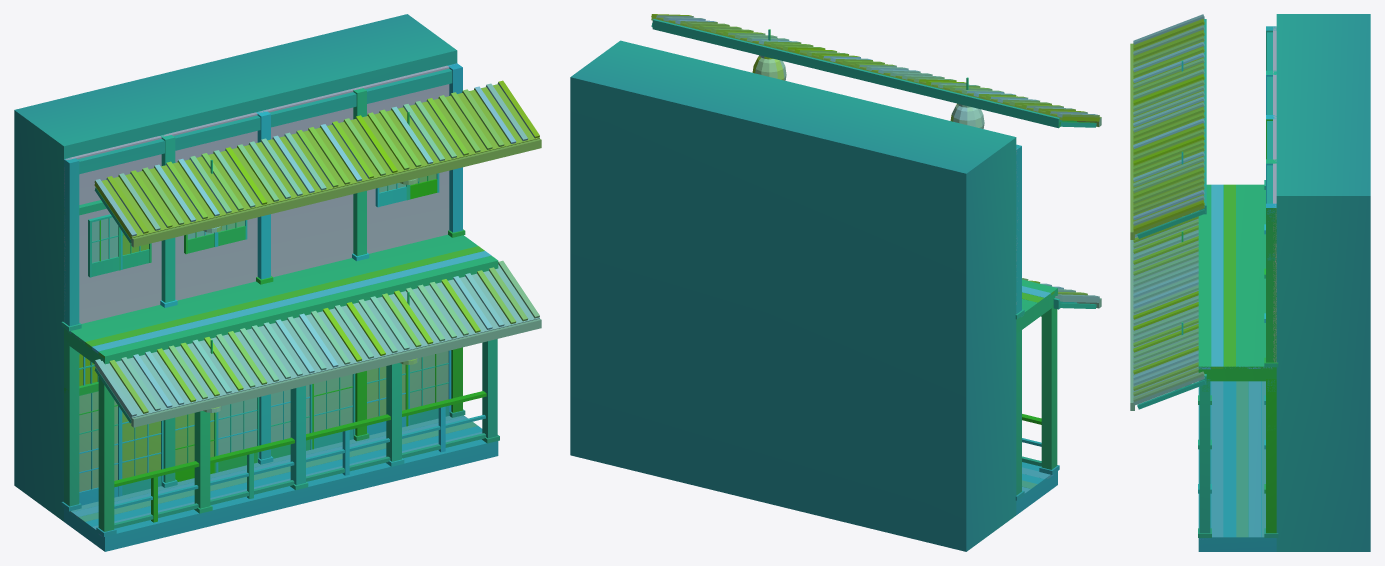
Rendered from B_facade_0.glb.
3 renders of one model, left to right at view 1: azimuth 30°, elevation 25°; view 2: azimuth 150°, elevation 25°; view 3: azimuth 270°, elevation 25°, orthographic. The views are drawn at different scales.
Visible parts, largest first — view 1: B_facade_0; view 2: B_facade_0; view 3: B_facade_0.
Boxes of the visible parts, bbox=[...] form: B_facade_0: bbox=[14, 14, 541, 551]; B_facade_0: bbox=[570, 14, 1101, 551]; B_facade_0: bbox=[1130, 14, 1370, 551].
Bounding box in the file's own units: 8.3 × 7.3 × 4.47.
